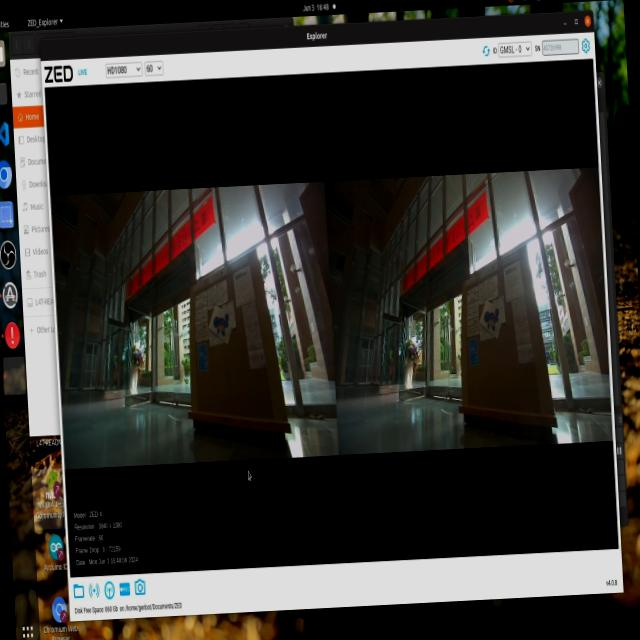blue: (216, 304, 242, 352), (485, 295, 506, 340)
